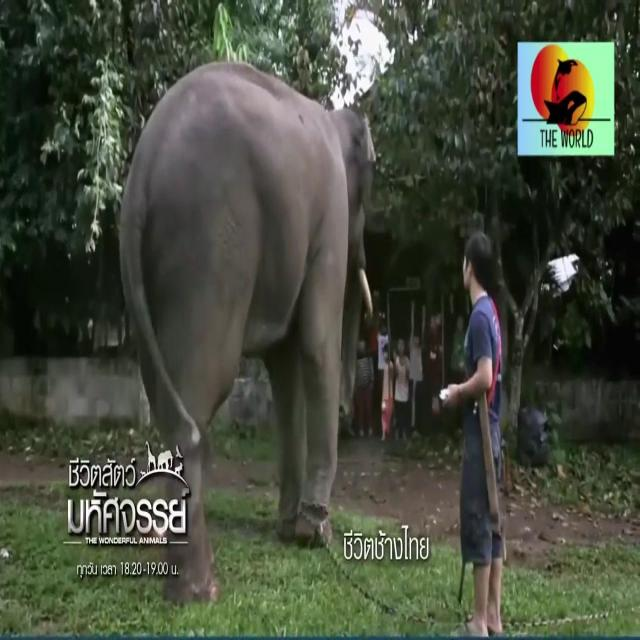Elephant: (122, 40, 375, 436)
